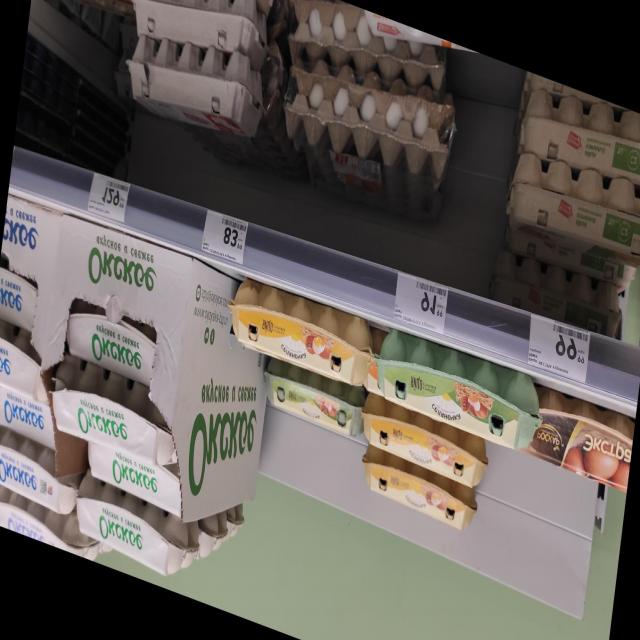organic waste: (374, 315, 547, 459), (224, 270, 378, 404), (504, 137, 640, 284), (517, 71, 640, 201), (44, 356, 178, 474), (496, 229, 634, 343), (63, 468, 192, 586), (527, 374, 636, 502), (345, 4, 512, 86), (359, 392, 491, 494), (355, 442, 483, 540), (258, 352, 366, 449), (61, 298, 159, 390), (86, 436, 184, 522), (0, 422, 82, 524), (0, 478, 91, 558), (0, 373, 59, 452), (0, 322, 50, 408), (138, 0, 276, 20), (0, 266, 41, 333), (44, 0, 146, 26)
